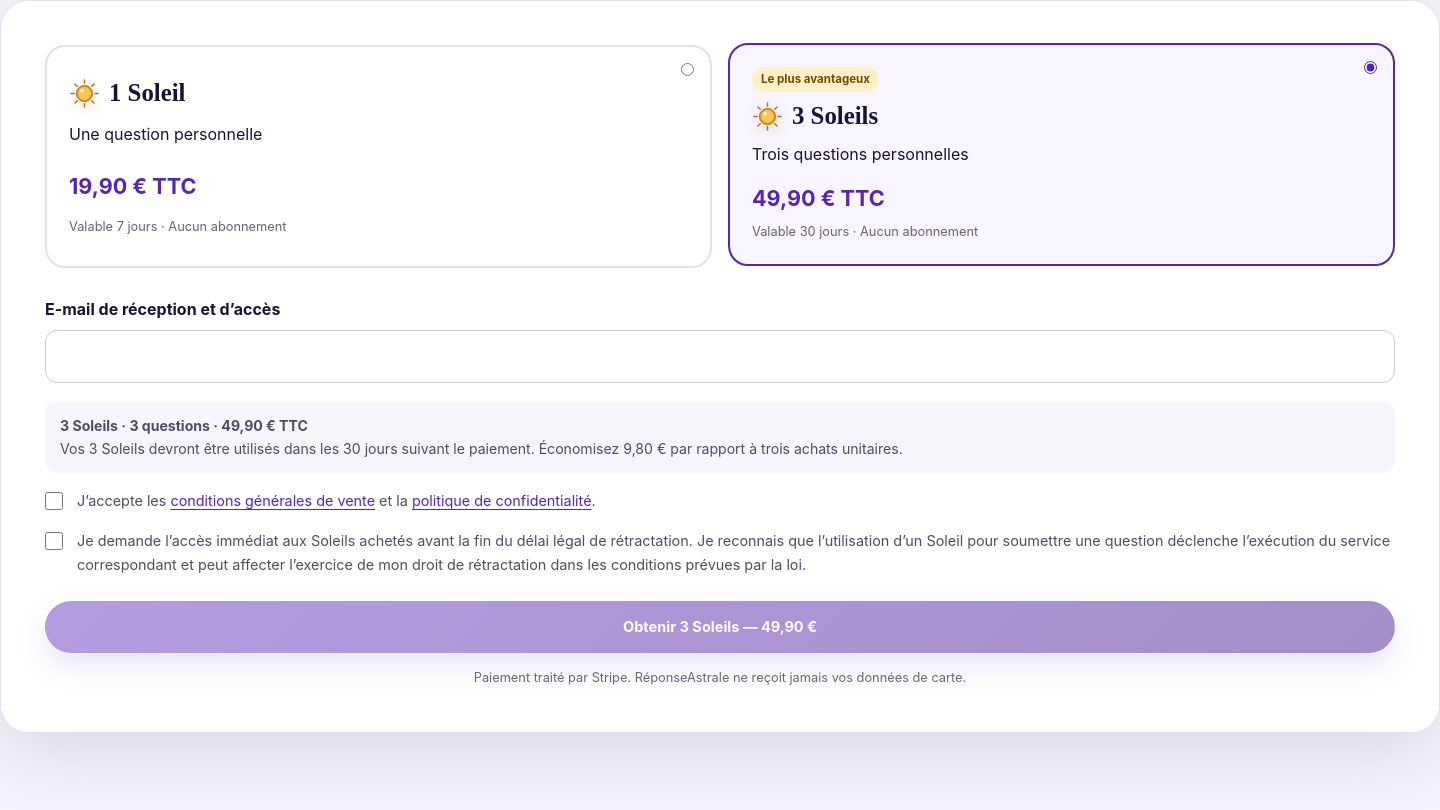
Test case: confirmation avant Stripe › affiche un message générique en cas d’indisponibilité réelle
The image size is (1440, 810).
Type "client@example.fr" into the field.
click(720, 357); type("client@example.fr")  # box [45,330,1395,383]
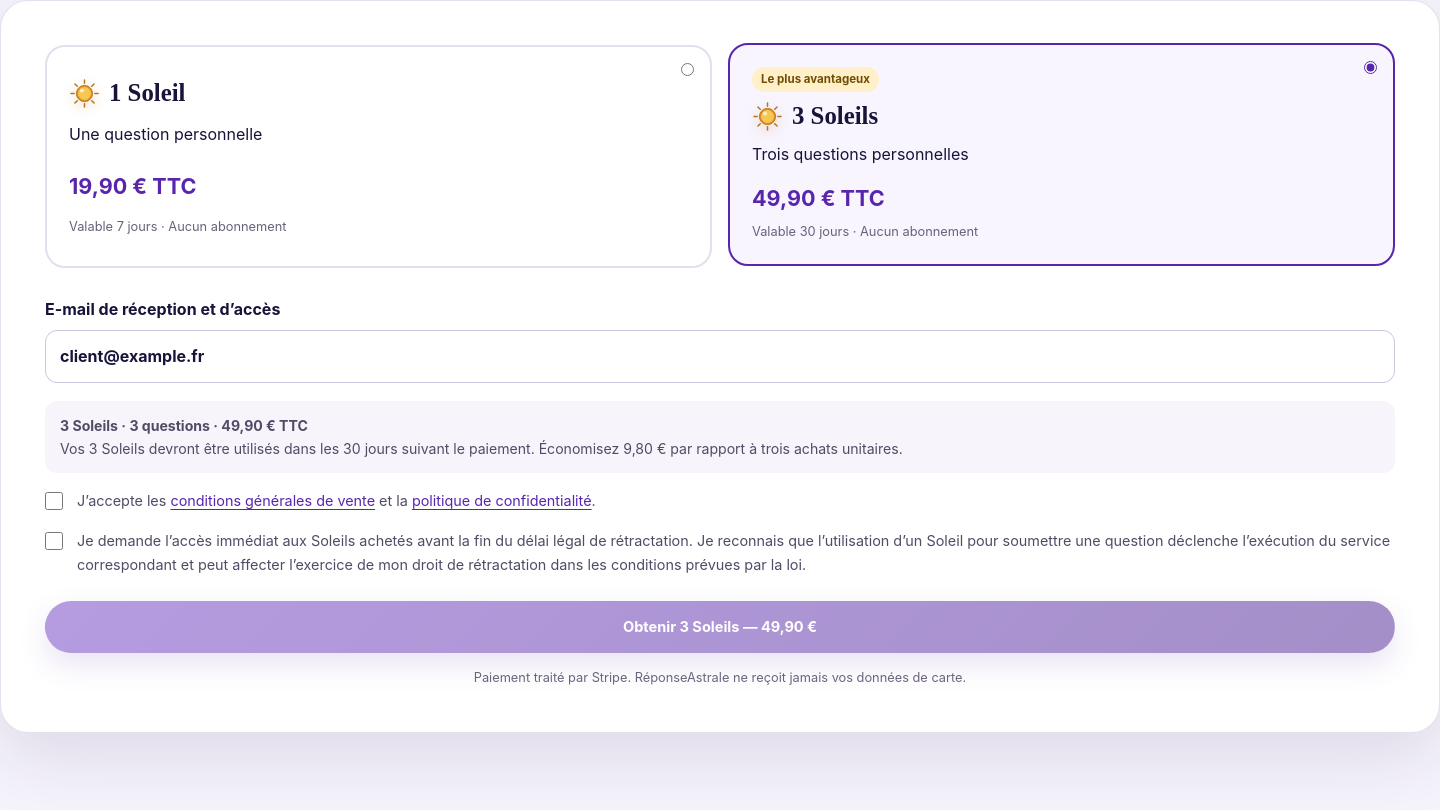
Click the 1st checkbox.
click(54, 501)  # box [45,492,63,510]
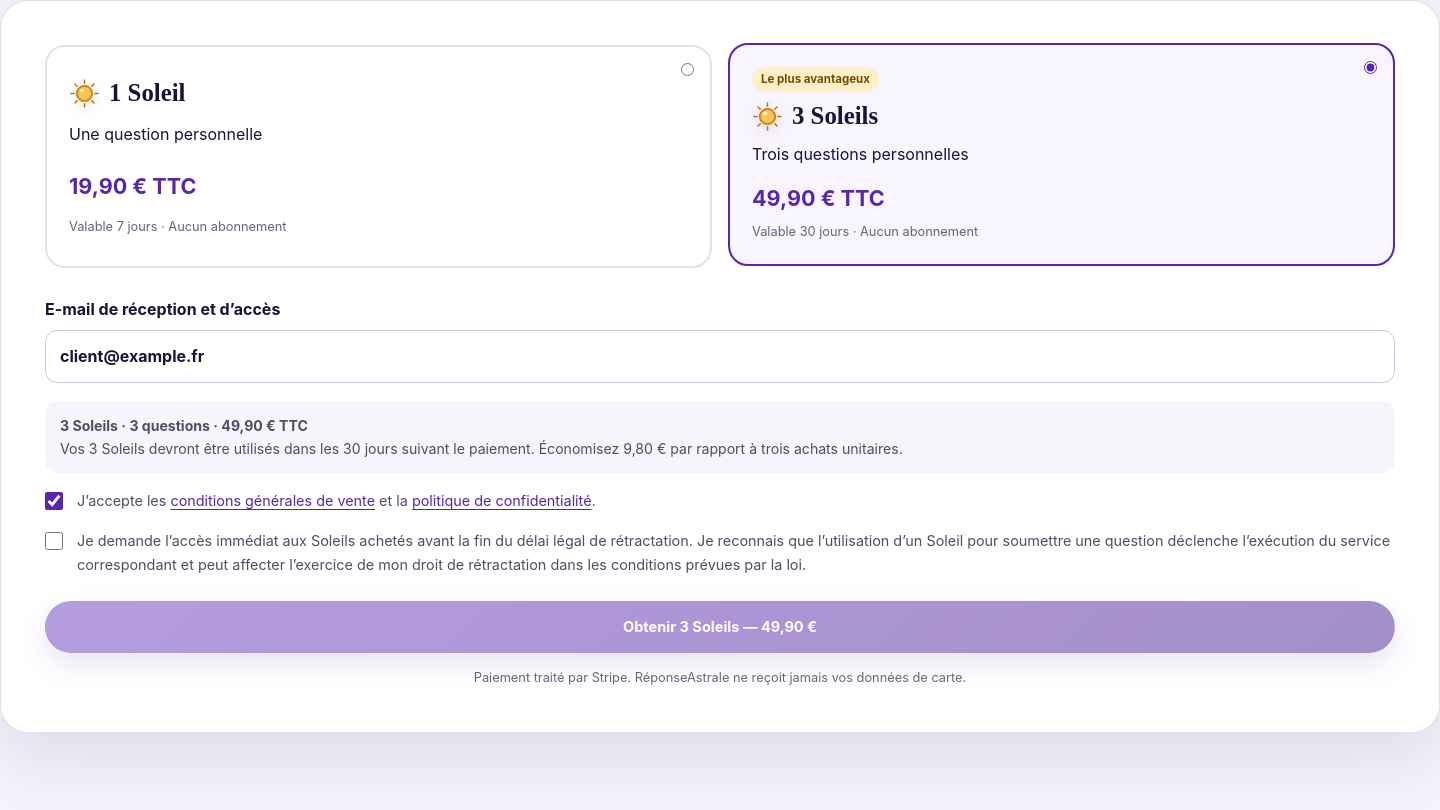
Click the 2nd checkbox.
click(54, 541)  # box [45,532,63,550]
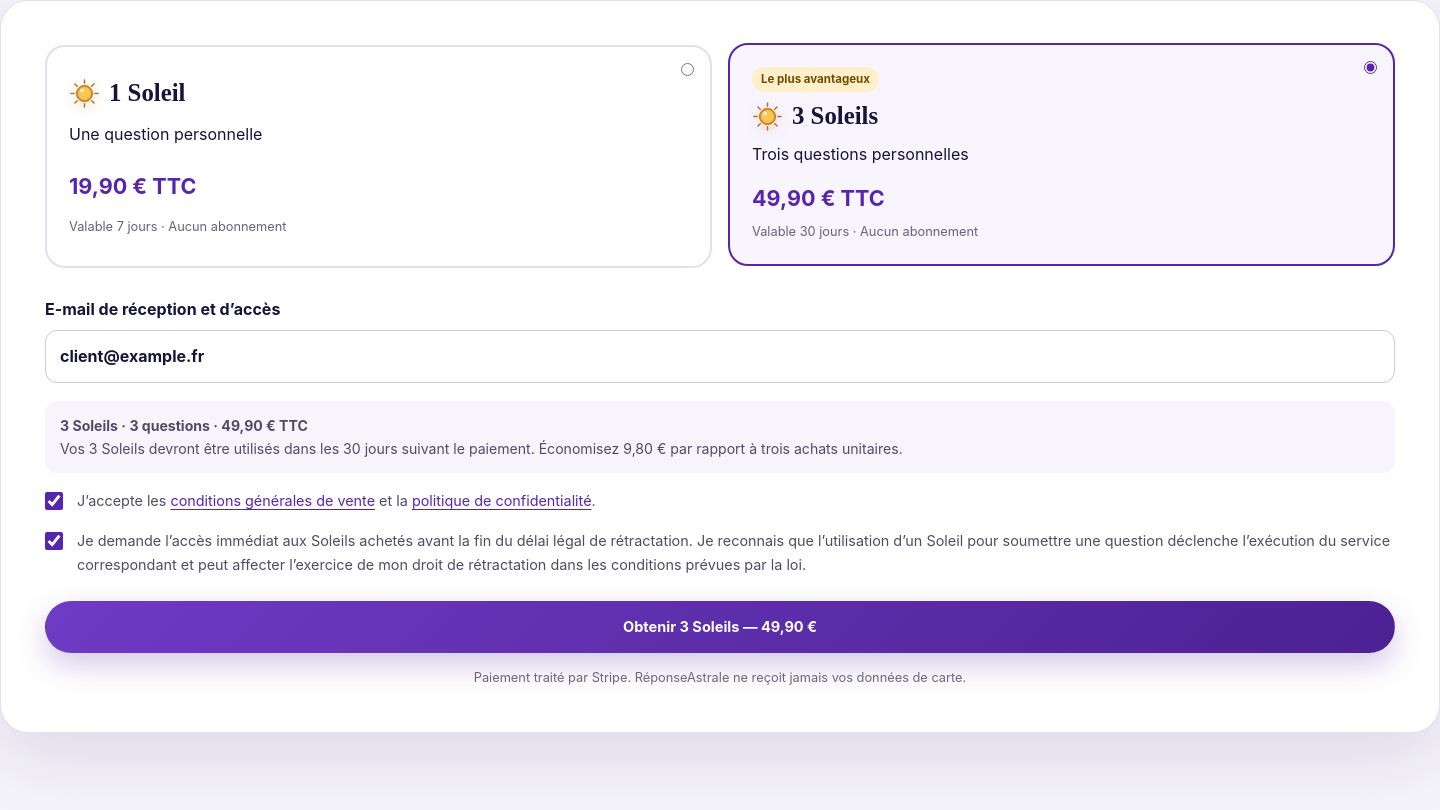
Click the button "Obtenir 3 Soleils — 49,90 €".
click(720, 626)  # box [45,600,1395,652]
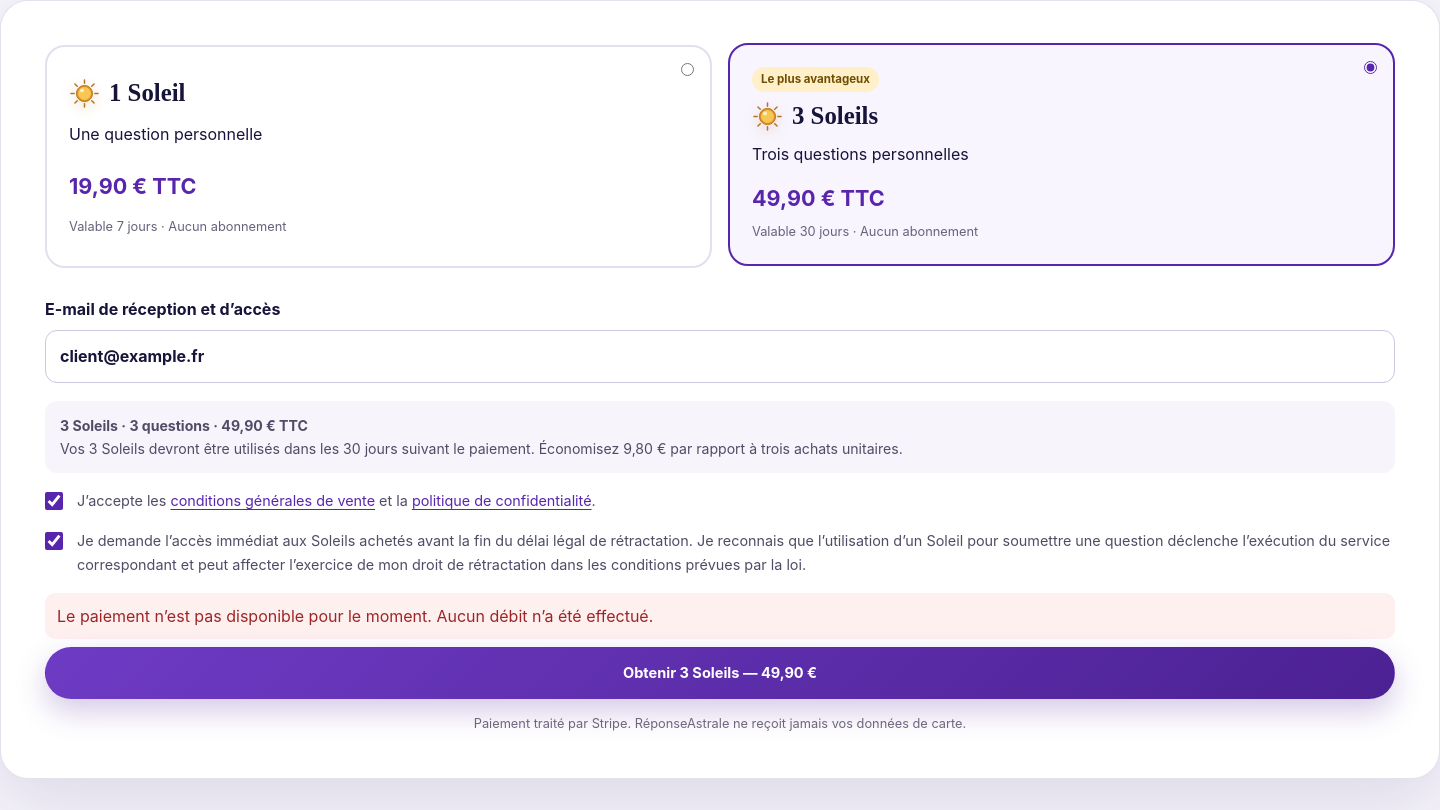
Check: the message does not show "paiement de test", box [45,592,1395,639]
Check: the message shows "Le paiement n’est pas disponible pour le moment.", box [57,606,653,626]
